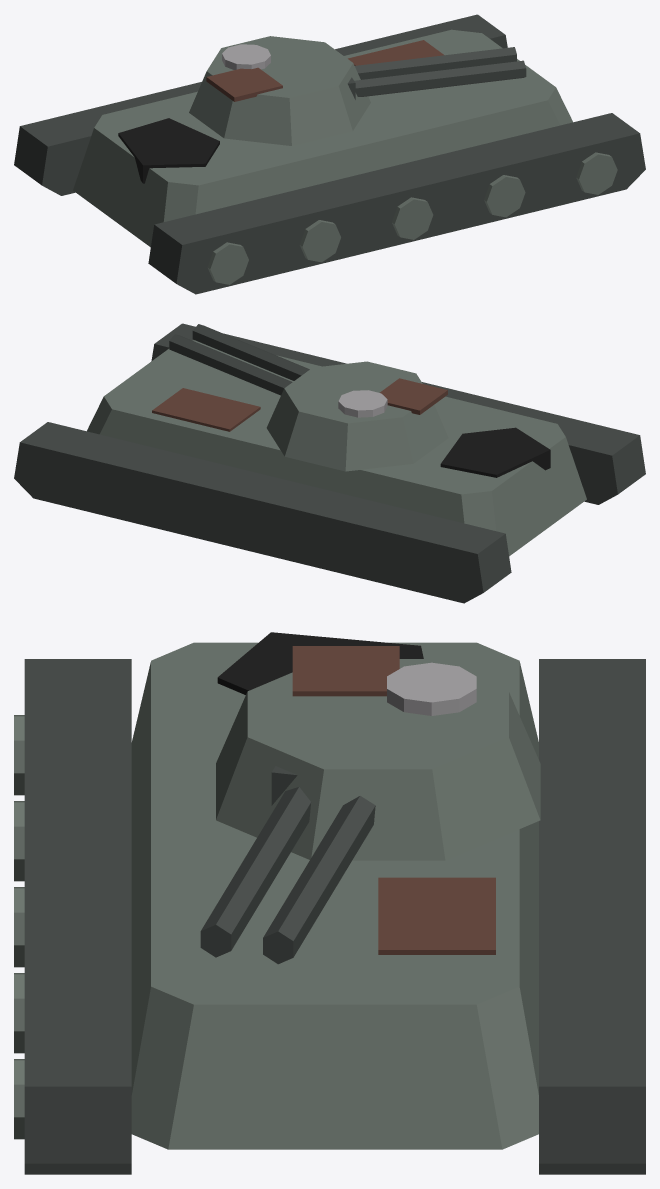
Rendered from ancient_tank.obj.
3 renders of one model, top to bottom at view 1: azimuth 30°, elevation 25°; view 2: azimuth 150°, elevation 25°; view 3: azimuth 270°, elevation 25°, orthographic. The views are drawn at different scales.
Visible parts, largest first — view 1: ancient_tank_7, ancient_tank_0, ancient_tank_8, ancient_tank_1, ancient_tank_13, ancient_tank_11, ancient_tank_10, ancient_tank_15, ancient_tank_5, ancient_tank_4, ancient_tank_6, ancient_tank_2 (+3 smaller); view 2: ancient_tank_1, ancient_tank_7, ancient_tank_8, ancient_tank_0, ancient_tank_13, ancient_tank_14, ancient_tank_10, ancient_tank_11, ancient_tank_15, ancient_tank_9; view 3: ancient_tank_7, ancient_tank_0, ancient_tank_1, ancient_tank_8, ancient_tank_14, ancient_tank_11, ancient_tank_10, ancient_tank_15, ancient_tank_9, ancient_tank_13, ancient_tank_2, ancient_tank_3 (+3 smaller).
Part boxes in pixels (bbox=[...]): ancient_tank_7: bbox=[73, 29, 572, 247]; ancient_tank_0: bbox=[148, 113, 645, 294]; ancient_tank_8: bbox=[189, 36, 370, 145]; ancient_tank_1: bbox=[14, 14, 507, 195]; ancient_tank_13: bbox=[118, 118, 219, 183]; ancient_tank_11: bbox=[354, 60, 526, 96]; ancient_tank_10: bbox=[355, 47, 516, 79]; ancient_tank_15: bbox=[206, 67, 282, 101]; ancient_tank_5: bbox=[484, 175, 525, 217]; ancient_tank_4: bbox=[392, 197, 433, 239]; ancient_tank_6: bbox=[576, 152, 617, 194]; ancient_tank_2: bbox=[207, 242, 248, 284]; ancient_tank_1: bbox=[14, 422, 511, 603]; ancient_tank_7: bbox=[87, 340, 586, 556]; ancient_tank_8: bbox=[266, 361, 448, 471]; ancient_tank_0: bbox=[151, 323, 645, 504]; ancient_tank_13: bbox=[440, 427, 550, 477]; ancient_tank_14: bbox=[152, 388, 260, 431]; ancient_tank_10: bbox=[169, 334, 292, 395]; ancient_tank_11: bbox=[192, 324, 309, 380]; ancient_tank_15: bbox=[380, 378, 447, 414]; ancient_tank_9: bbox=[338, 390, 387, 417]; ancient_tank_7: bbox=[131, 642, 538, 1149]; ancient_tank_0: bbox=[24, 659, 131, 1174]; ancient_tank_1: bbox=[539, 659, 645, 1174]; ancient_tank_8: bbox=[216, 659, 540, 860]; ancient_tank_14: bbox=[378, 877, 495, 954]; ancient_tank_11: bbox=[200, 787, 311, 957]; ancient_tank_10: bbox=[263, 796, 375, 964]; ancient_tank_15: bbox=[292, 646, 399, 696]; ancient_tank_9: bbox=[387, 662, 476, 715]; ancient_tank_13: bbox=[217, 632, 423, 694]; ancient_tank_2: bbox=[14, 715, 24, 795]; ancient_tank_3: bbox=[14, 801, 24, 881].
Size of the model in its own units: 4.84 by 1.22 by 2.95.
